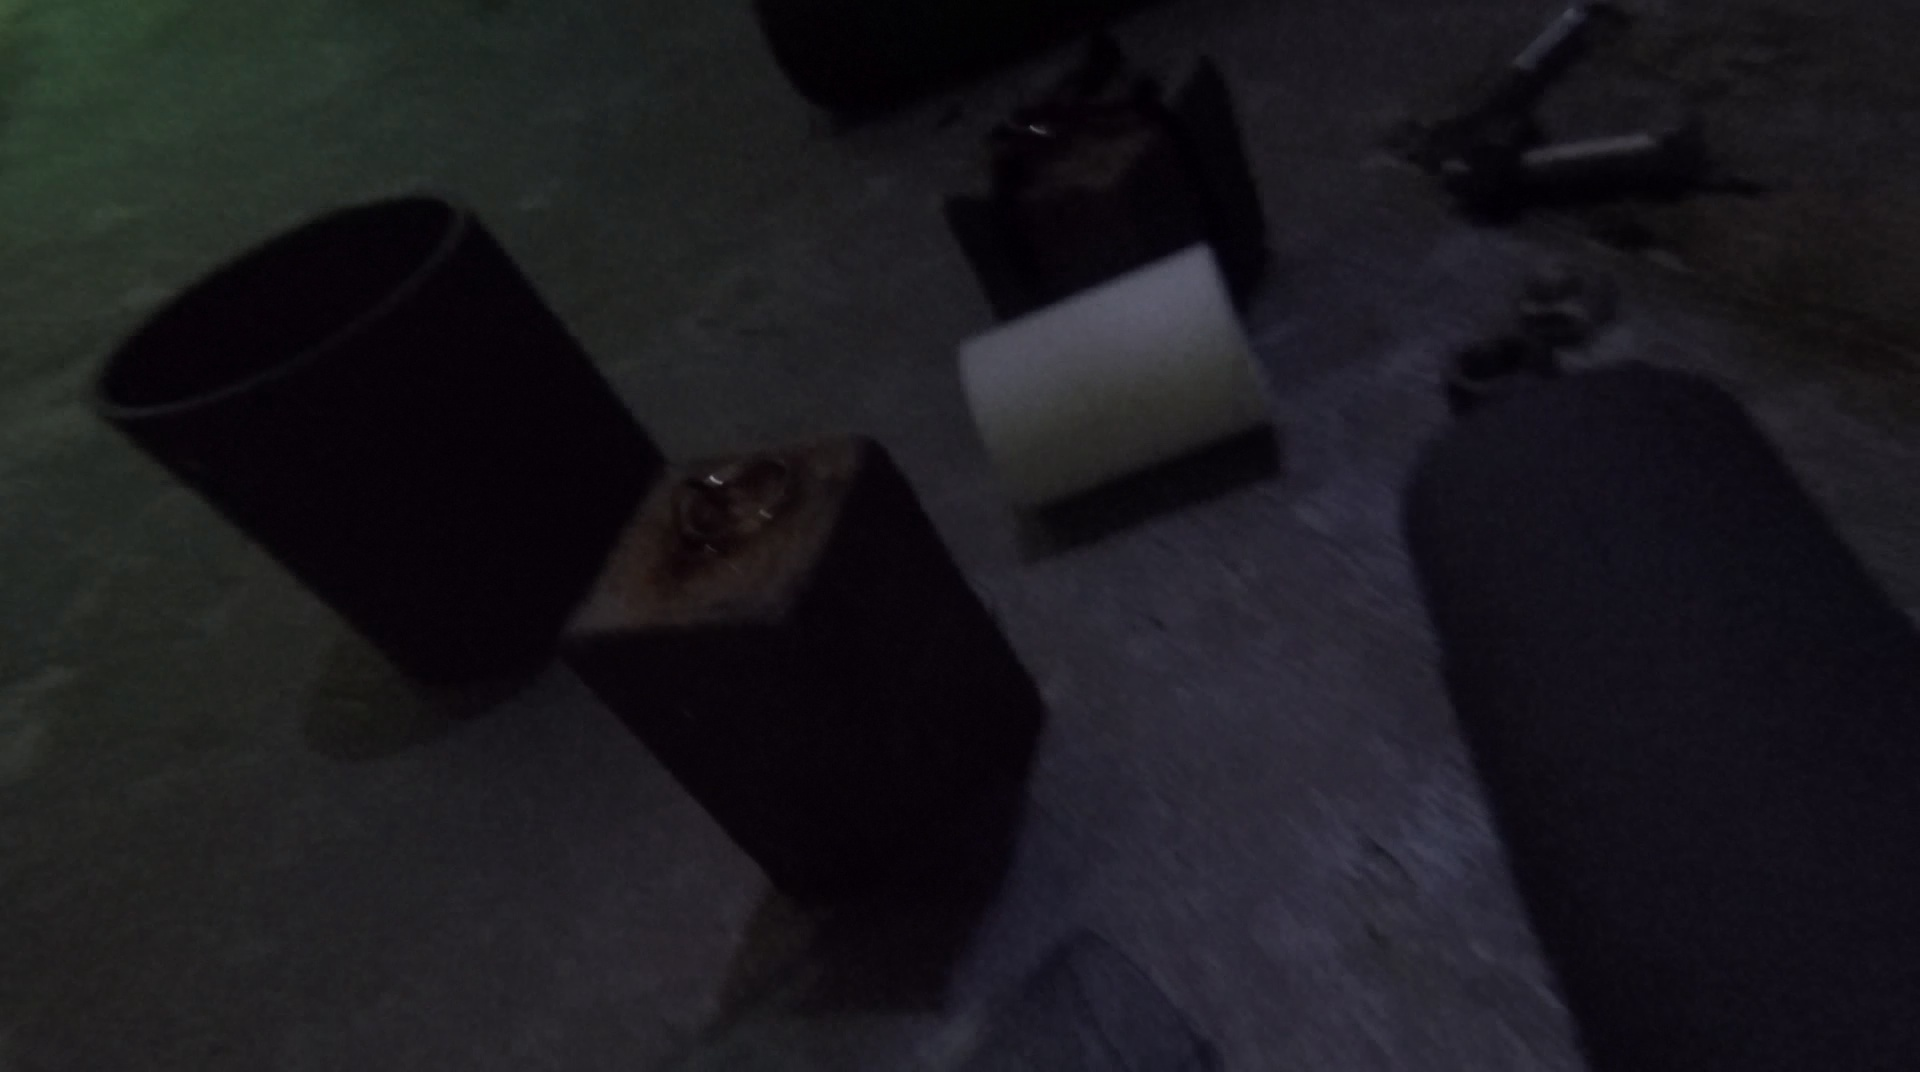bolt: (1443, 112, 1708, 212), (1427, 4, 1611, 148)
led_block: (562, 432, 1044, 908), (944, 40, 1270, 318)
nut: (1513, 258, 1622, 342), (1443, 330, 1552, 403), (1466, 121, 1536, 204)
pipe: (86, 189, 665, 698), (956, 241, 1283, 517), (957, 927, 1230, 1072), (746, 3, 1009, 121)
